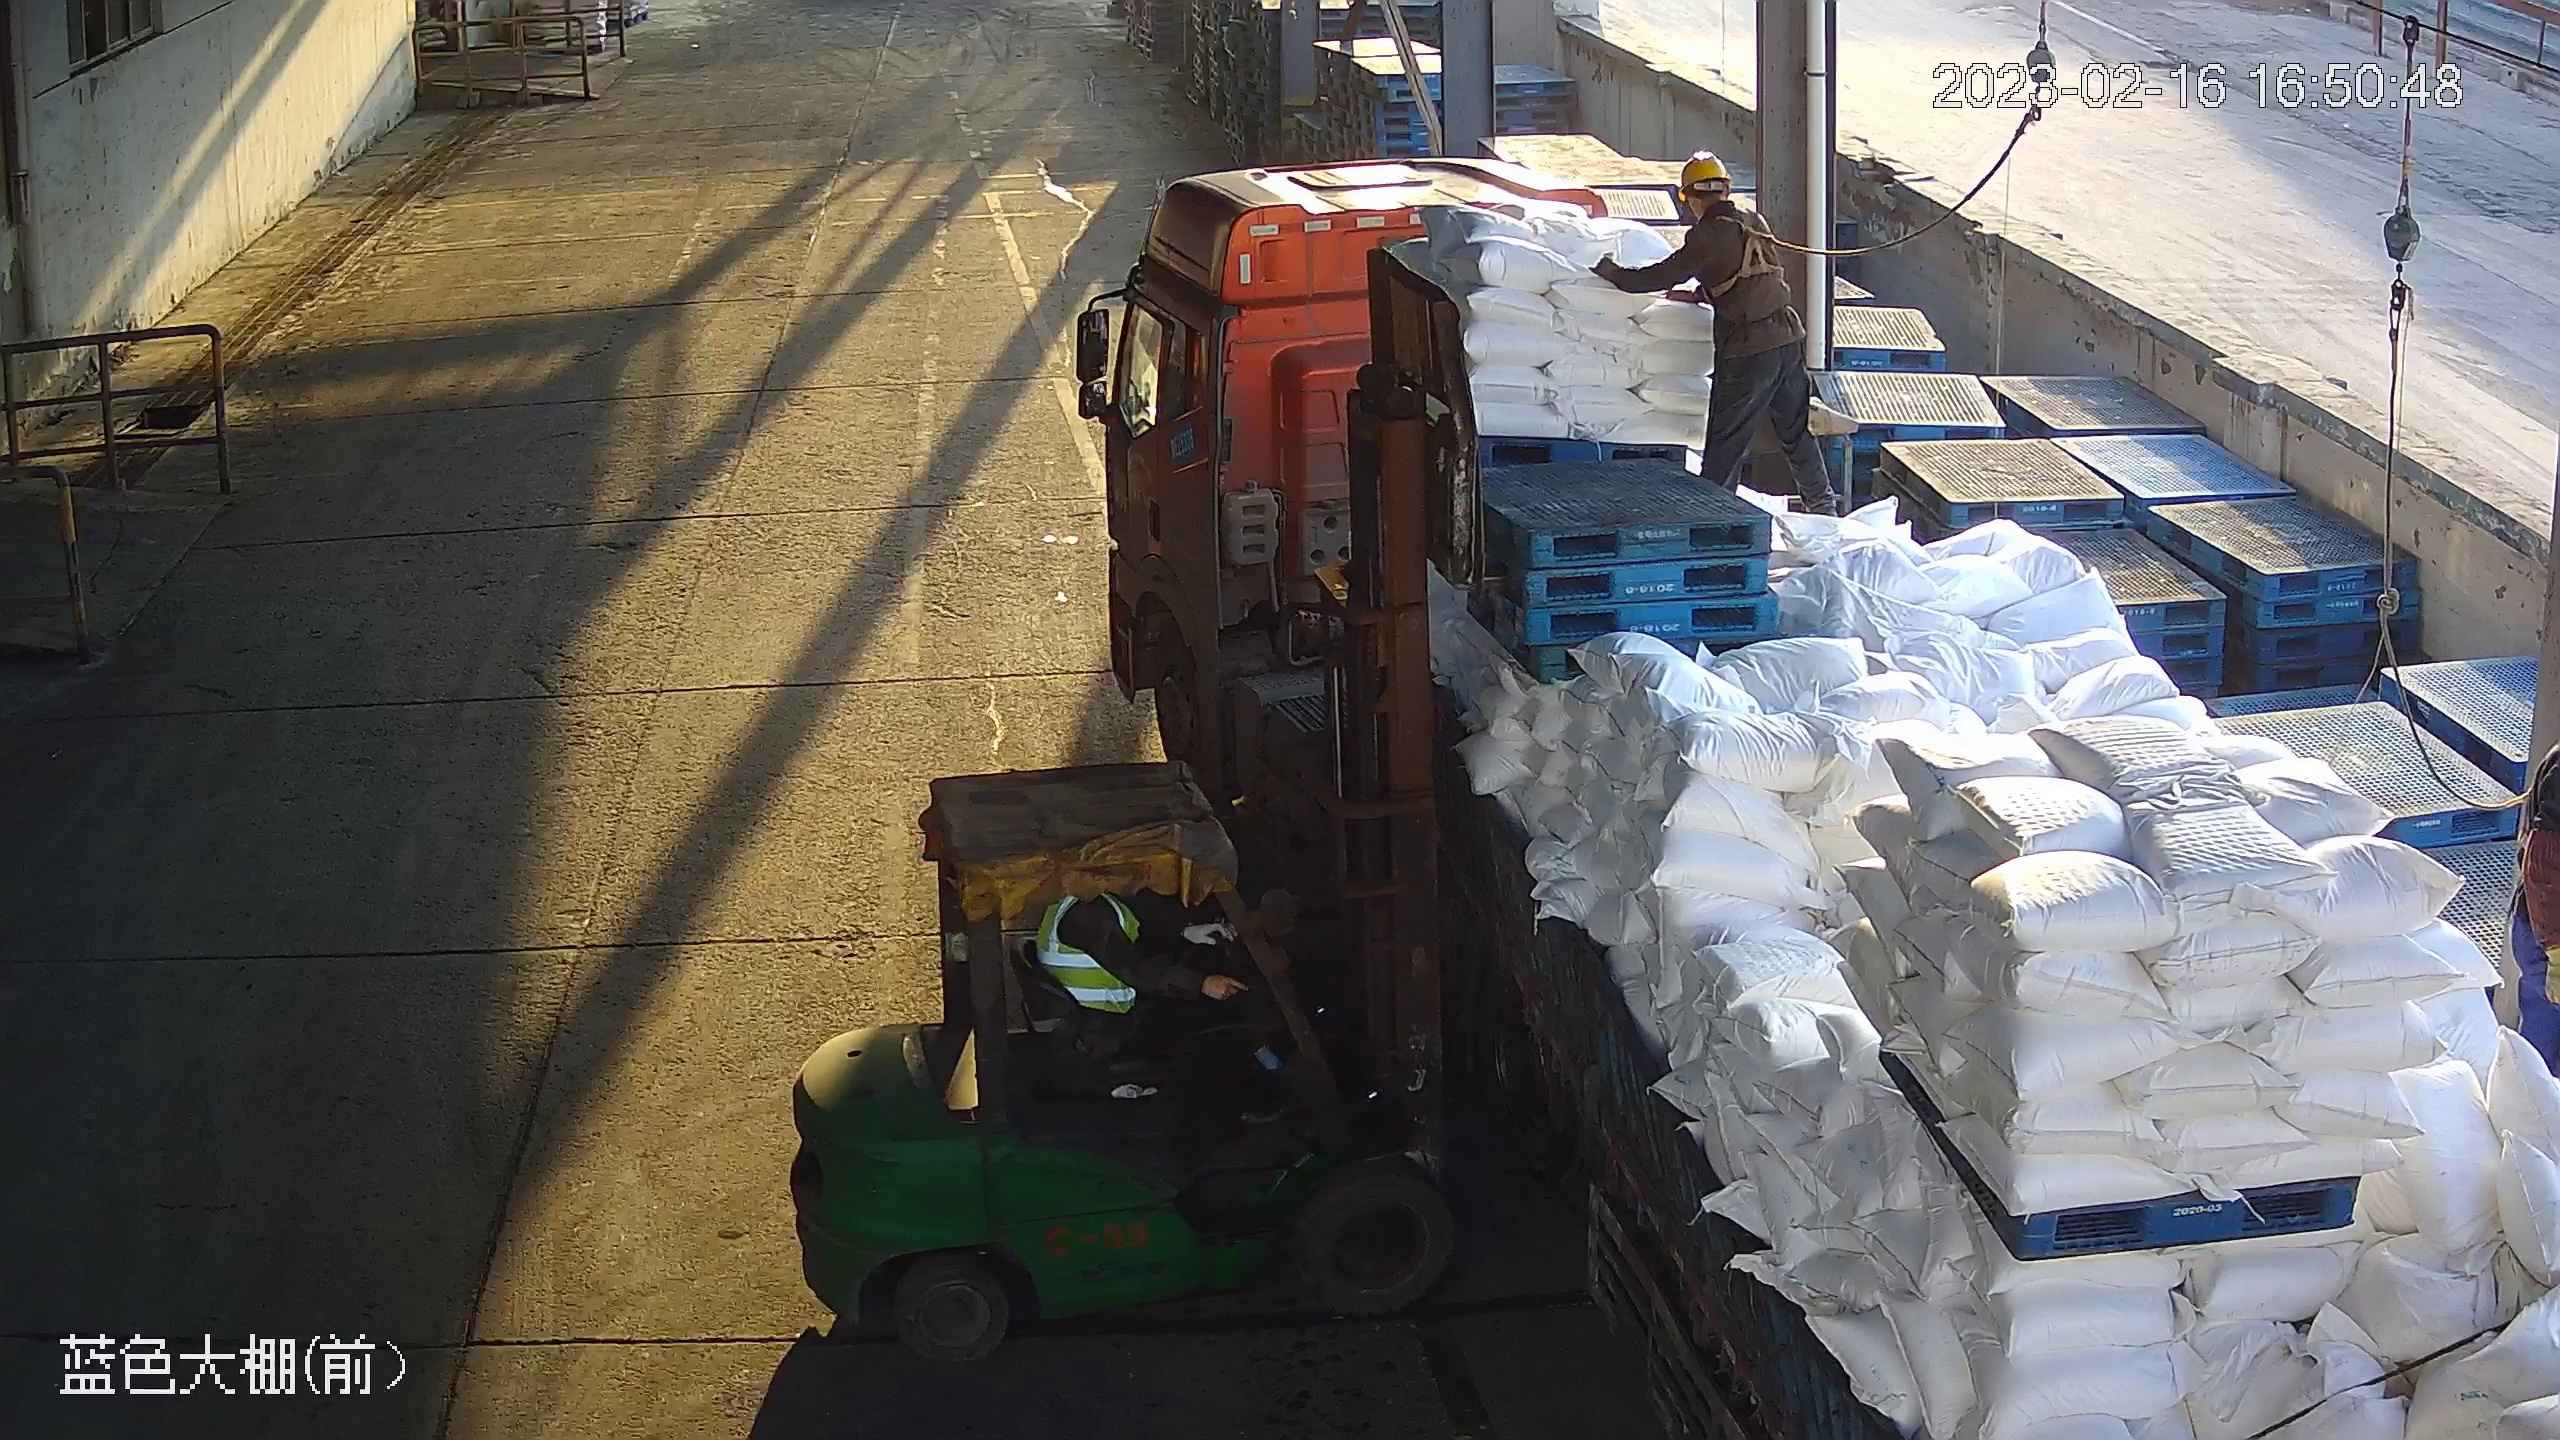belt: (1708, 209, 1786, 298)
head: (1677, 158, 1774, 251)
helmet: (1677, 157, 1732, 202)
people: (1588, 157, 1840, 516)
truck: (1072, 157, 2560, 1440)
